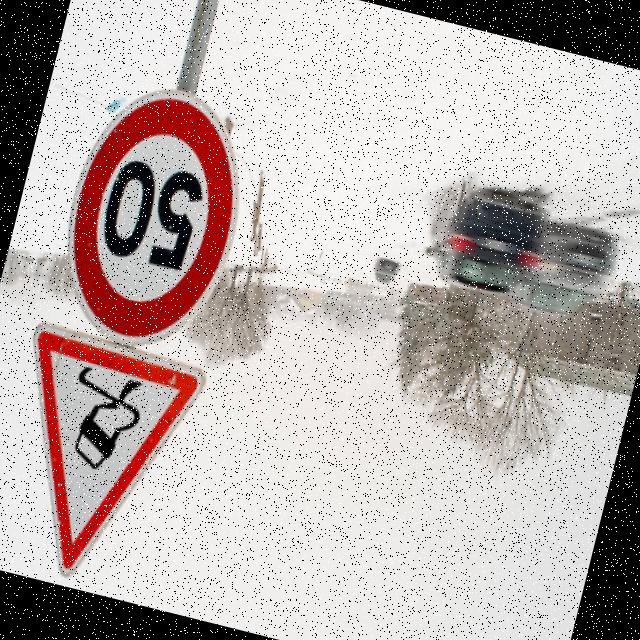road_slippery: (0, 321, 217, 604)
speed_limit_50: (31, 71, 278, 366)
